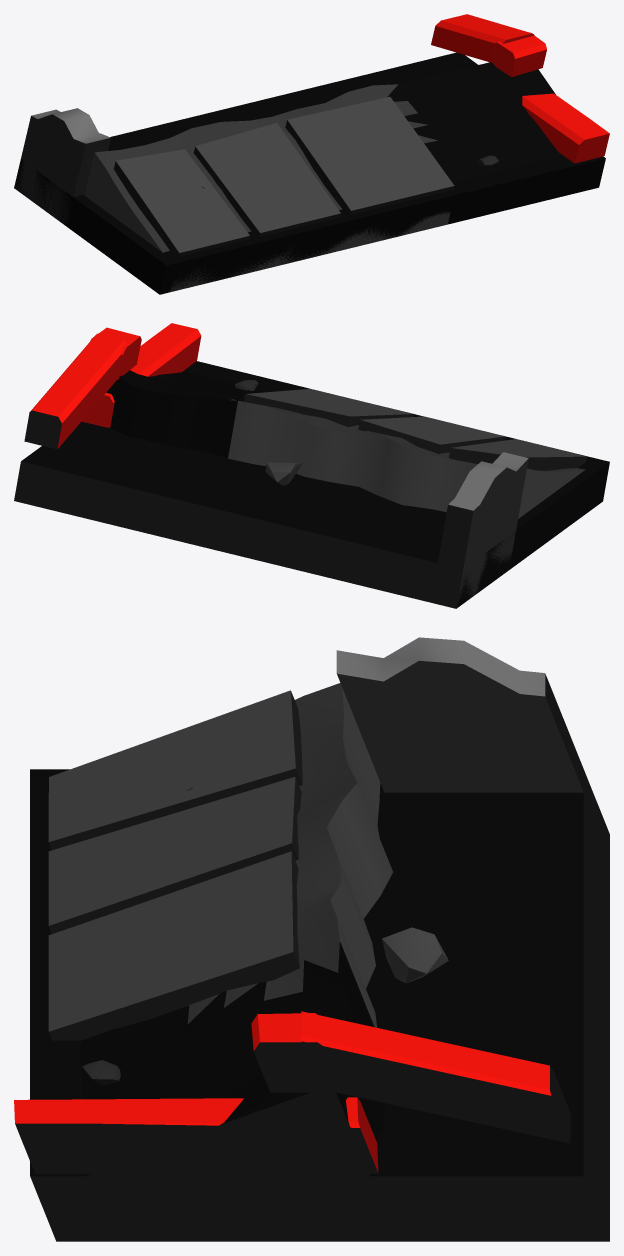
File: roof_hangar_bl_wreck.glb
3 renders of one model, top to bottom at view 1: azimuth 30°, elevation 25°; view 2: azimuth 150°, elevation 25°; view 3: azimuth 270°, elevation 25°, orthographic. The views are drawn at different scales.
Visible parts, largest first — view 1: roof_hangar_bl_wreck; view 2: roof_hangar_bl_wreck; view 3: roof_hangar_bl_wreck.
Boxes of the visible parts, x1,y1,x2,y2 form: roof_hangar_bl_wreck: [14, 14, 609, 294]; roof_hangar_bl_wreck: [14, 323, 609, 608]; roof_hangar_bl_wreck: [14, 637, 609, 1241].
Size of the model in its own units: 17.4 by 4.07 by 10.76.
